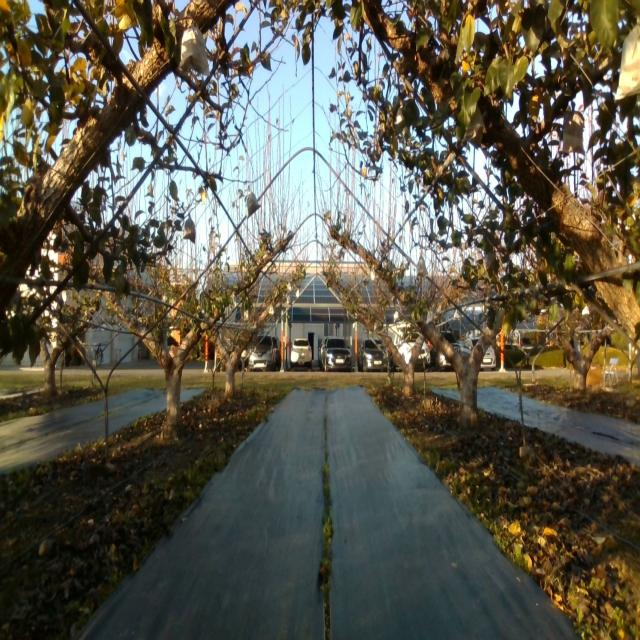pearbags: (614, 16, 640, 100), (180, 27, 210, 76), (562, 112, 586, 156), (246, 192, 260, 217), (183, 217, 195, 242), (416, 257, 426, 276)
